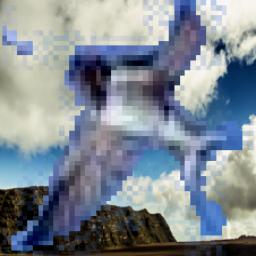Swallow: (2, 0, 254, 256)
